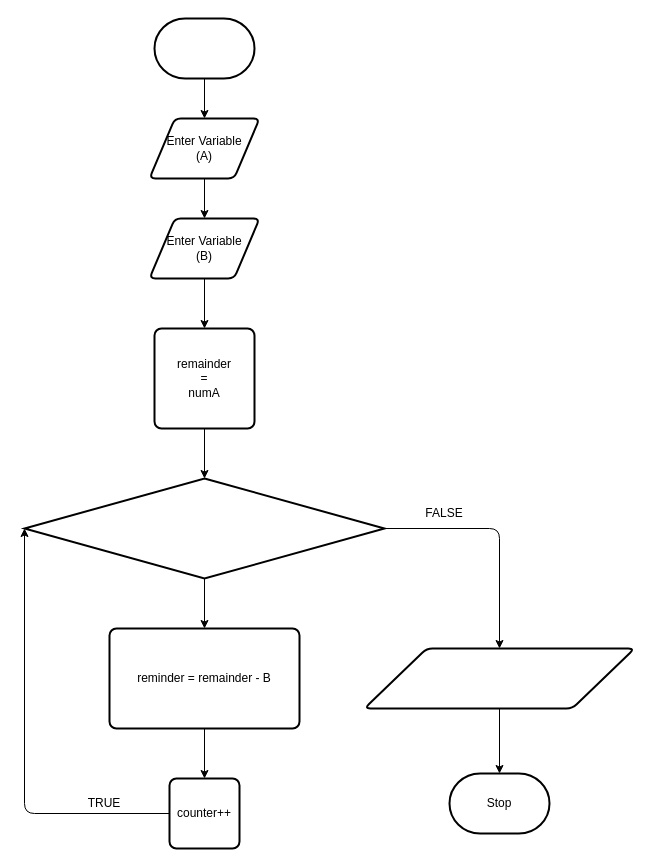
This 653x866 diagram has some shape labels left out. Here are the shapes that lost their labels. From the top down, the centre of each, then its label:
the point at 204,48: Start
the point at 204,528: while (remainder >= numB)
the point at 499,678: Print: "You have a quotient of " + counter + " R " + remainder + "."
